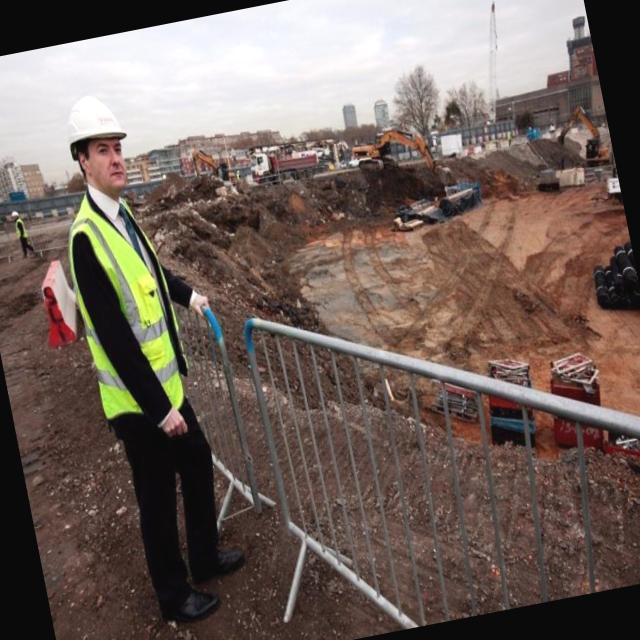helmet: (57, 90, 129, 156)
vest: (56, 195, 205, 450)
